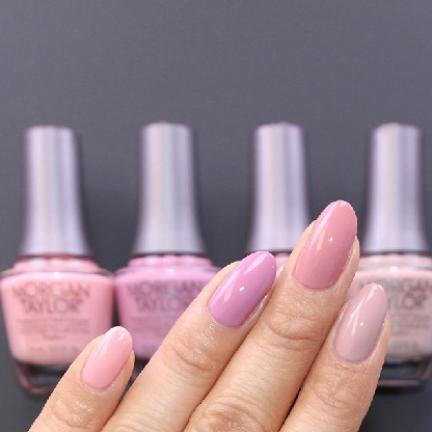Nail: (294, 201, 357, 289), (208, 251, 277, 326), (335, 284, 387, 362), (82, 327, 132, 388)
